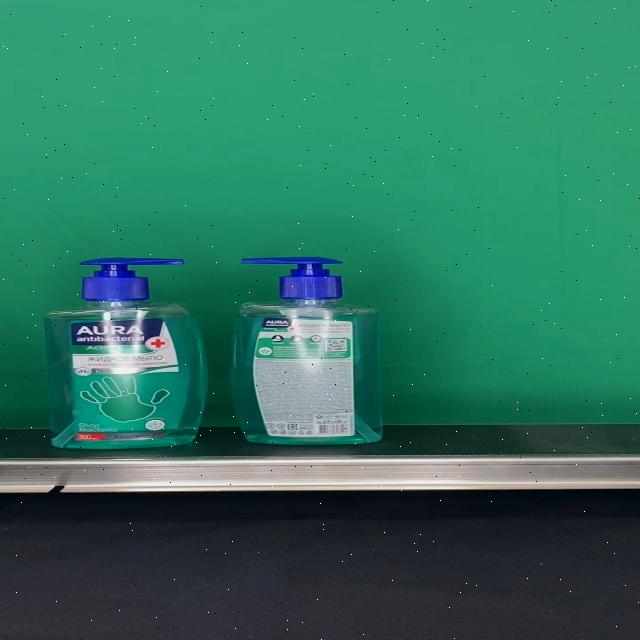Bottle: (45, 257, 208, 448), (230, 257, 384, 445)
Cap: (80, 258, 185, 300), (240, 258, 343, 300)
